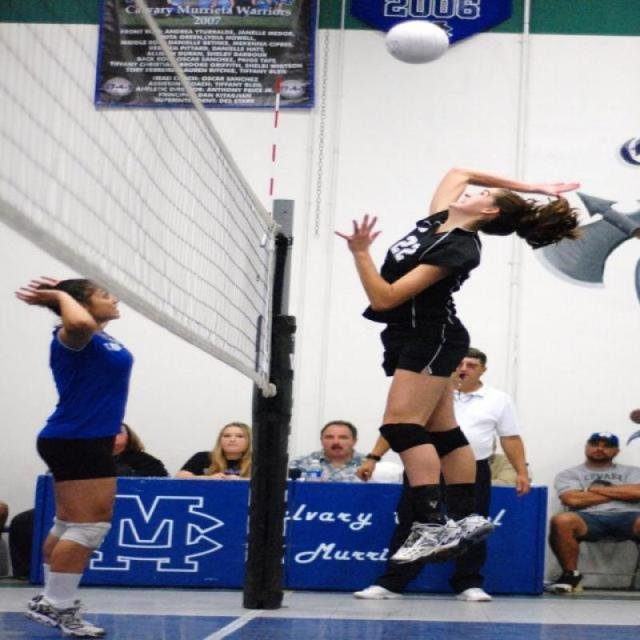volleyball: (380, 17, 451, 64)
